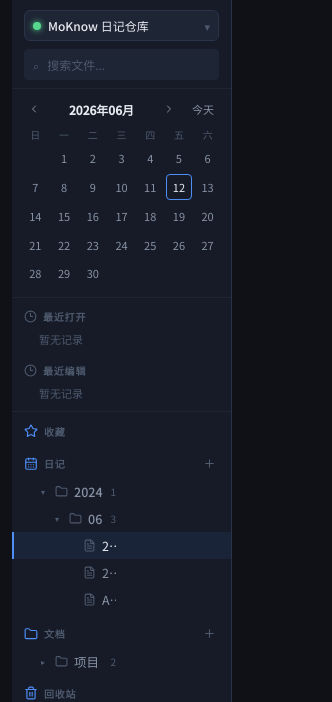
Scenario: RepositoryTree › lazily renders collapsed folder children while keeping search complete
The width and height of the screenshot is (332, 702).
Expected: the text "项目" is shown, x1=74 y1=652 x2=99 y2=671
Expected: the text "README.md" is not shown
Click the button "▸ 项目 2" at (122, 661), box x1=12 y1=648 x2=231 y2=675
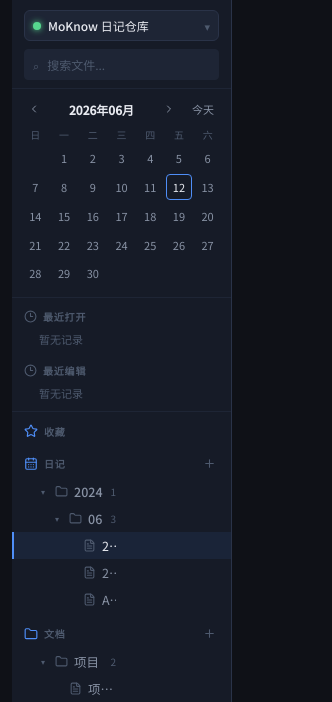
Click the button "▾ 项目 2" at (122, 661), box x1=12 y1=648 x2=231 y2=675
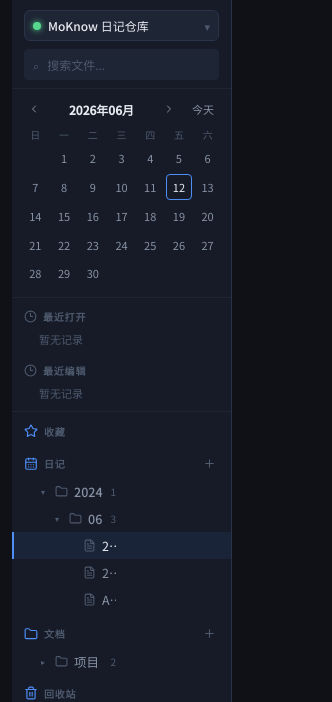
Type "README" into the field with placeholder "搜索文件..." at (128, 64), box x1=45 y1=55 x2=210 y2=74
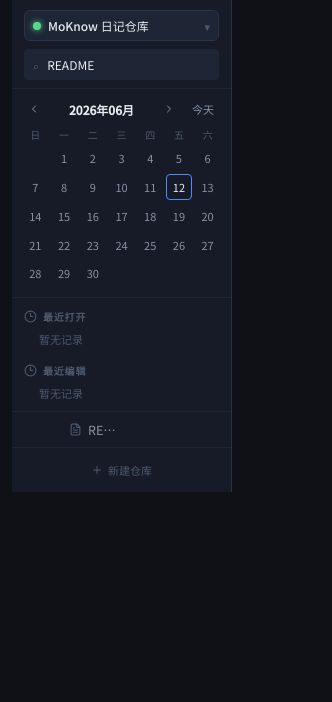
Result: the text "README.md" is shown at x1=88 y1=420 x2=116 y2=439
